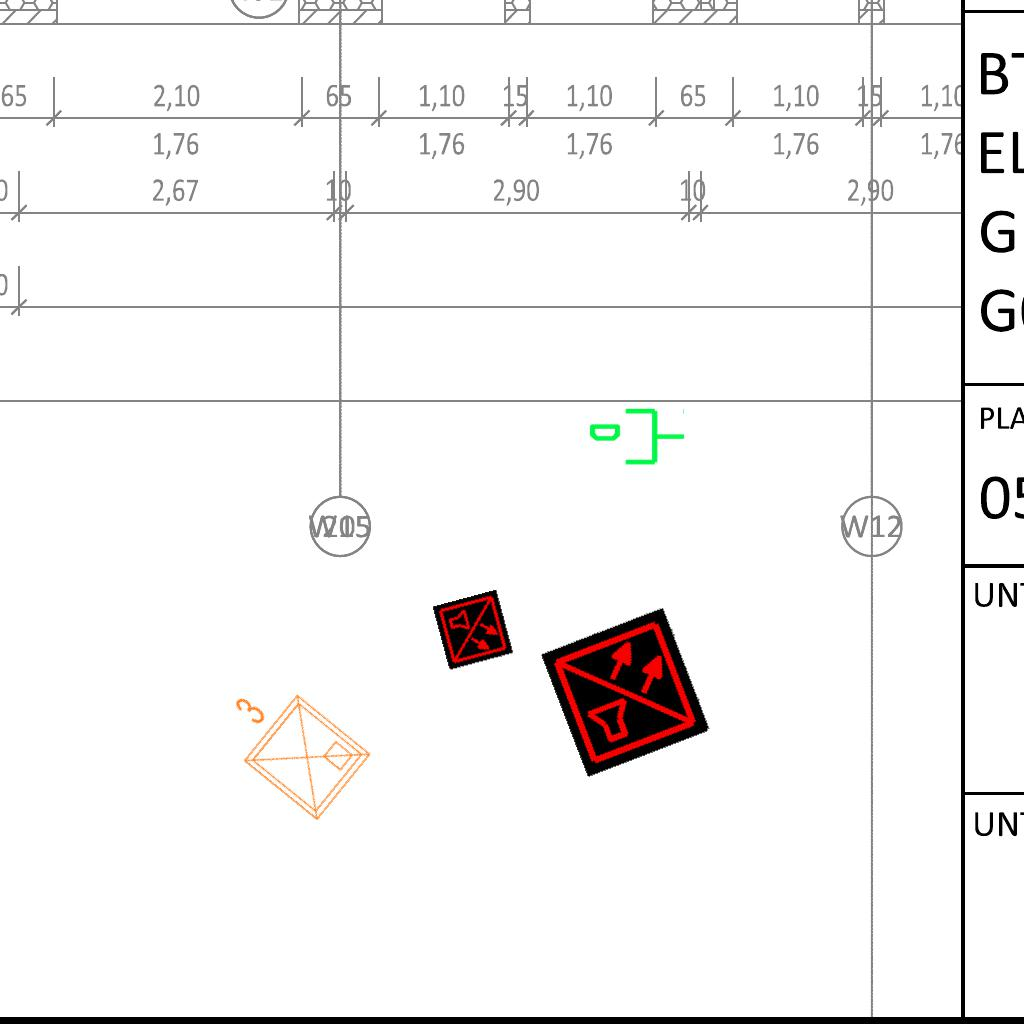Datenanschluss_einfach: (587, 404, 687, 473)
Einbaudownlights_LED_Konferenzraeume: (198, 658, 382, 834)
OKW_Multisensormelder_(Kombination_optischer_Rauch-Kahlenmonoxid_Waerme-Melder): (540, 606, 712, 778), (432, 589, 514, 671)
